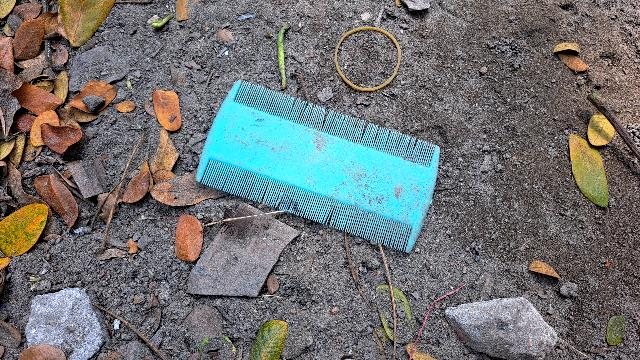hardplastic: (200, 75, 454, 257)
